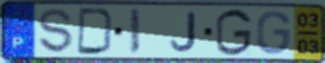D: (75, 6, 116, 57)
G: (214, 8, 254, 58), (254, 9, 292, 56)
I: (128, 7, 142, 57)
J: (168, 11, 198, 54)
S: (37, 7, 75, 55)
